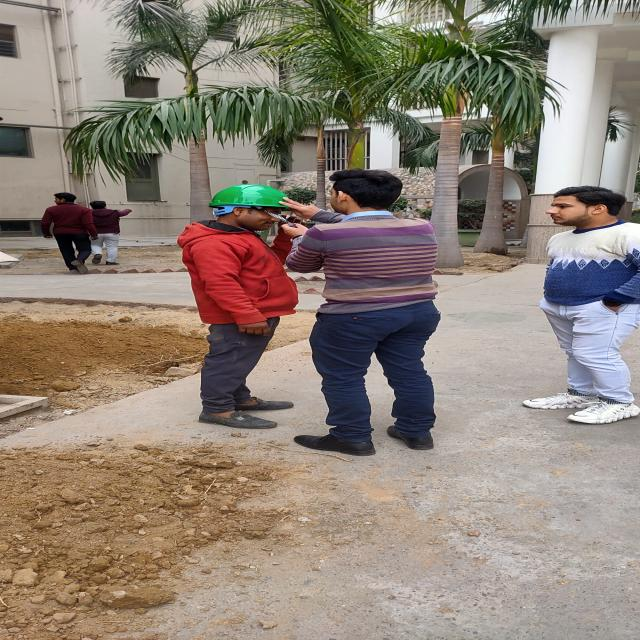no jacket: (178, 185, 288, 430)
unsafe: (284, 167, 442, 456), (523, 186, 640, 424), (41, 192, 98, 272), (88, 201, 134, 265)
